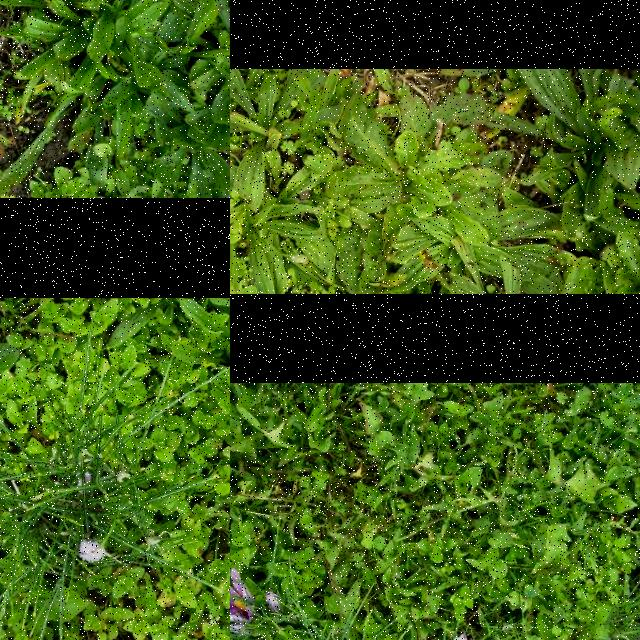flower: (230, 569, 254, 622), (79, 540, 107, 564), (266, 591, 282, 611), (447, 634, 468, 640)
